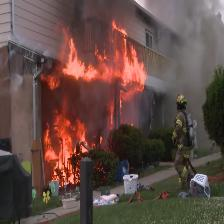fire: (34, 16, 148, 194)
smoke: (51, 1, 224, 64), (145, 1, 224, 102)
